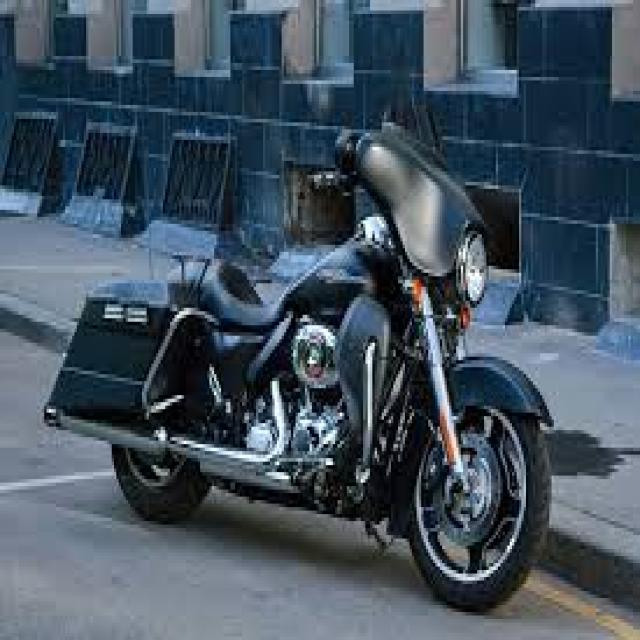MOTORCYCLE: (58, 160, 554, 606)
